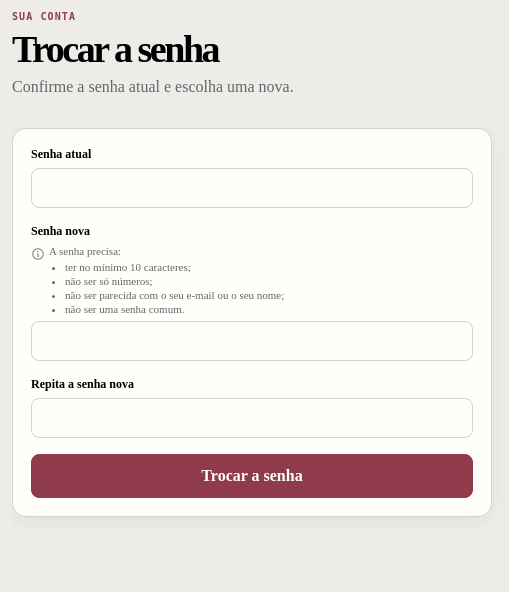
o pedido e os erros (RF-08) › too_many_requests sem wait_seconds → a frase dele, a mensagem da API fora, o foco no botão
Step 1. Type "senha-atual-1" into the password field labelled "Senha atual" → (252, 188), box [31,168,473,208]
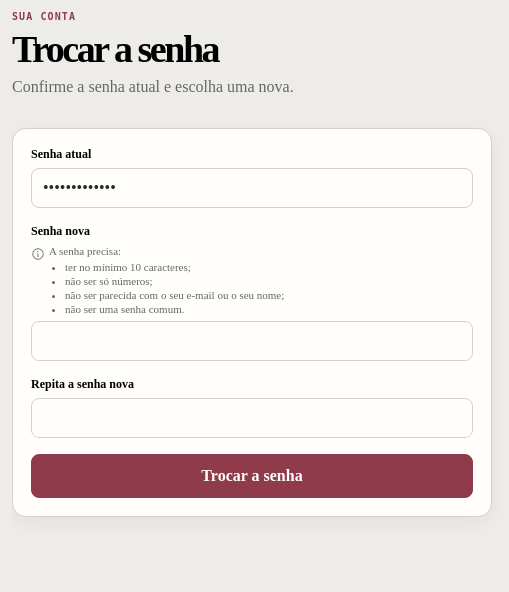
Step 2. Type "nova-senha-longa-9" into the password field labelled "Senha nova" → (252, 341), box [31,321,473,361]
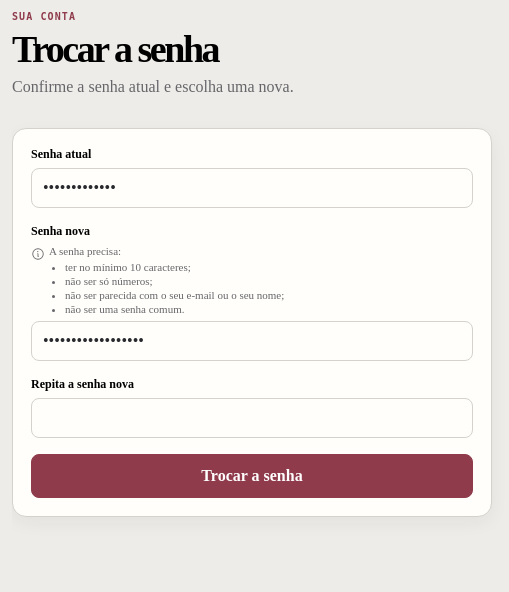
Step 3. Type "nova-senha-longa-9" into the password field labelled "Repita a senha nova" → (252, 418), box [31,398,473,438]
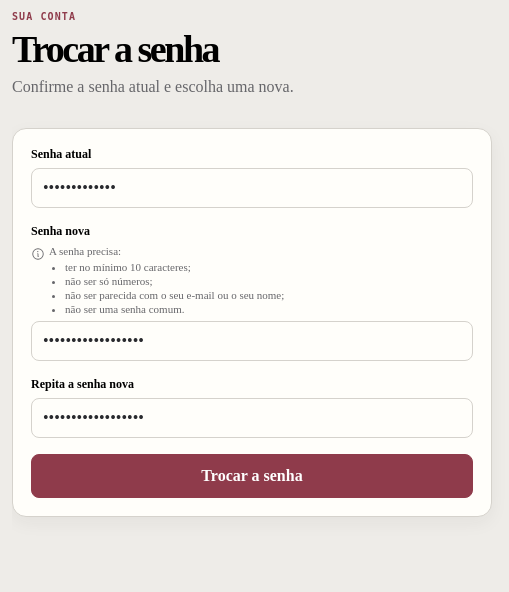
Step 4. Click the button "Trocar a senha" → click(252, 476), box [31,454,473,498]
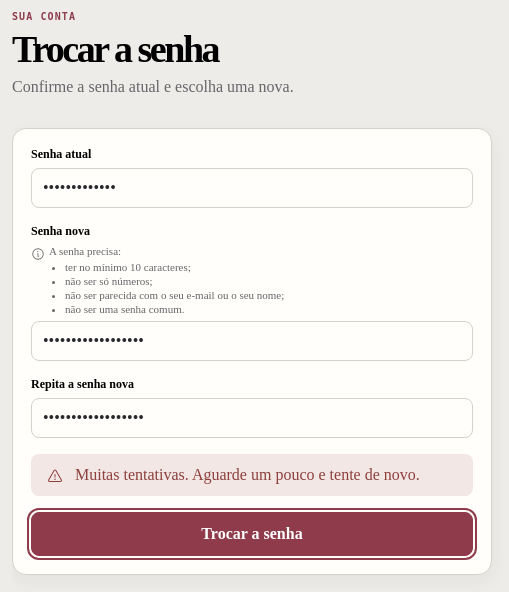
Expected: the message reads "Muitas tentativas. Aguarde um pouco e tente de novo.", [75,466,420,483]
